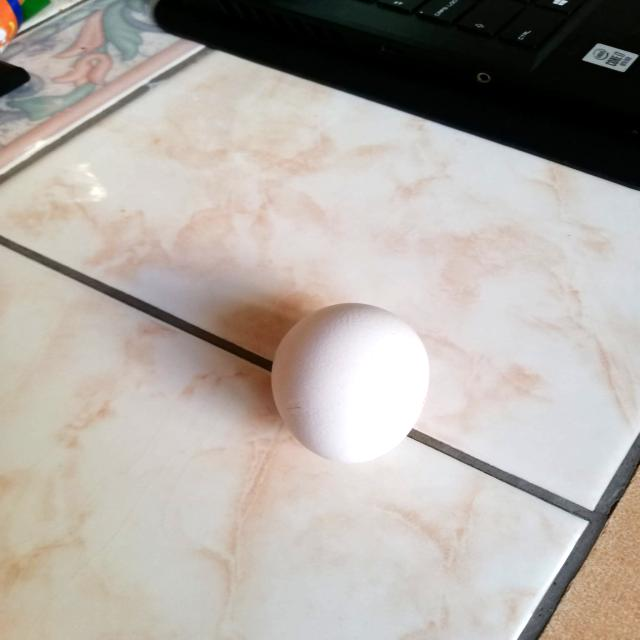egg: (261, 292, 442, 468)
